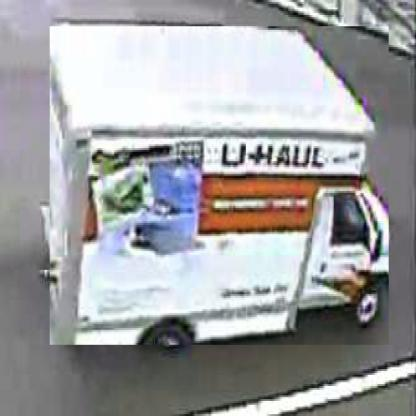truck: (51, 27, 391, 348)
